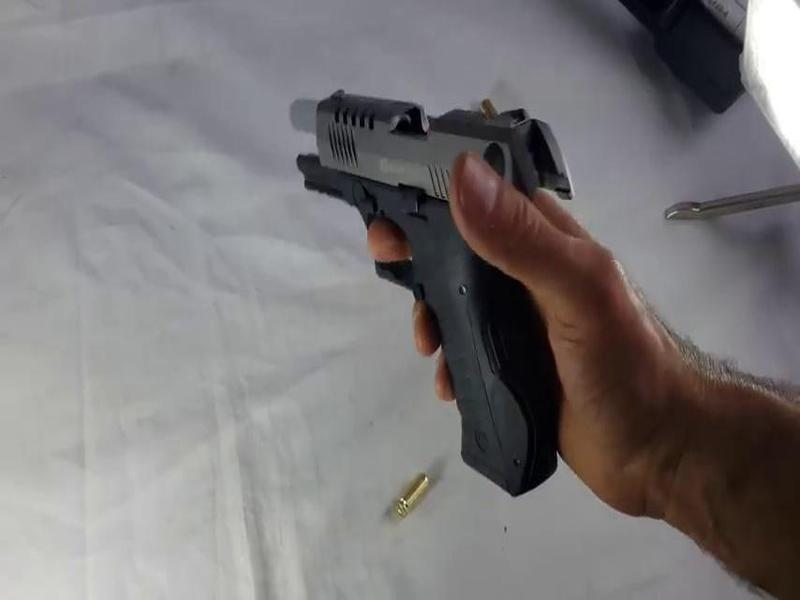Pistola: (245, 86, 594, 468)
